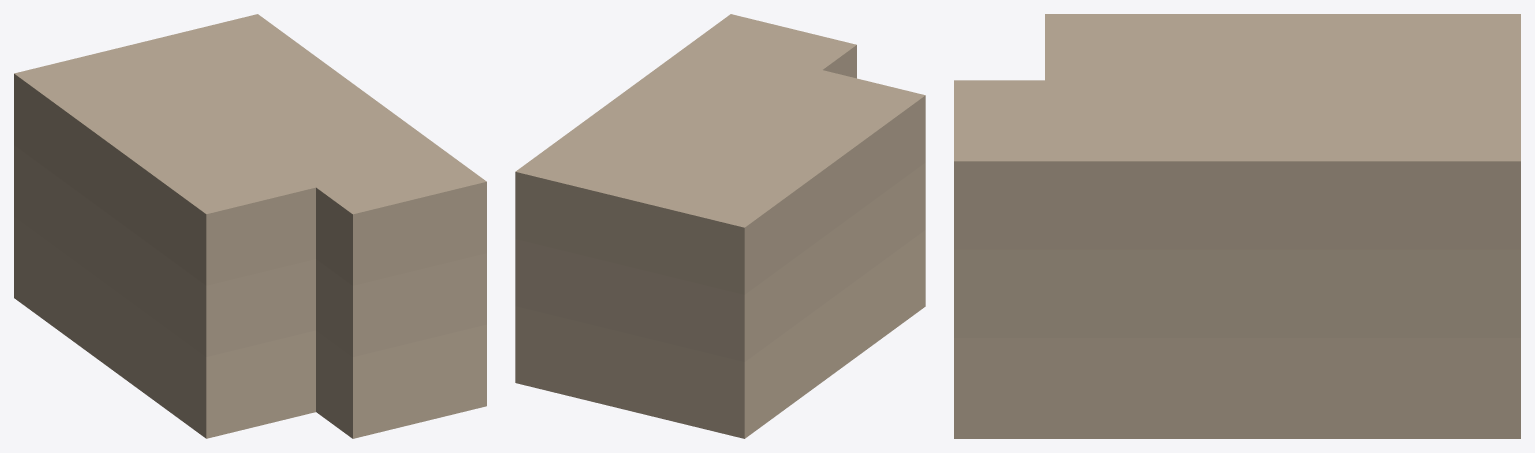
File: massing.glb
3 views of the same model, side by side, from view 1: azimuth 30°, elevation 25°; view 2: azimuth 150°, elevation 25°; view 3: azimuth 270°, elevation 25° (orthographic). The views are drawn at different scales.
Visible parts, largest first — view 1: main/floor3/0/0, main/floor1/0/0, main/floor2/0/0; view 2: main/floor3/0/0, main/floor1/0/0, main/floor2/0/0; view 3: main/floor3/0/0, main/floor1/0/0, main/floor2/0/0.
Part boxes in pixels (x1,y1,x2,y2): main/floor3/0/0: (14, 14, 486, 285); main/floor1/0/0: (14, 216, 486, 438); main/floor2/0/0: (14, 145, 486, 357); main/floor3/0/0: (515, 14, 925, 294); main/floor1/0/0: (515, 230, 925, 438); main/floor2/0/0: (515, 163, 925, 361); main/floor3/0/0: (954, 14, 1520, 249); main/floor1/0/0: (954, 338, 1520, 438); main/floor2/0/0: (954, 249, 1520, 337).
Size of the model in its own units: 10 by 8.8 by 16.27.
